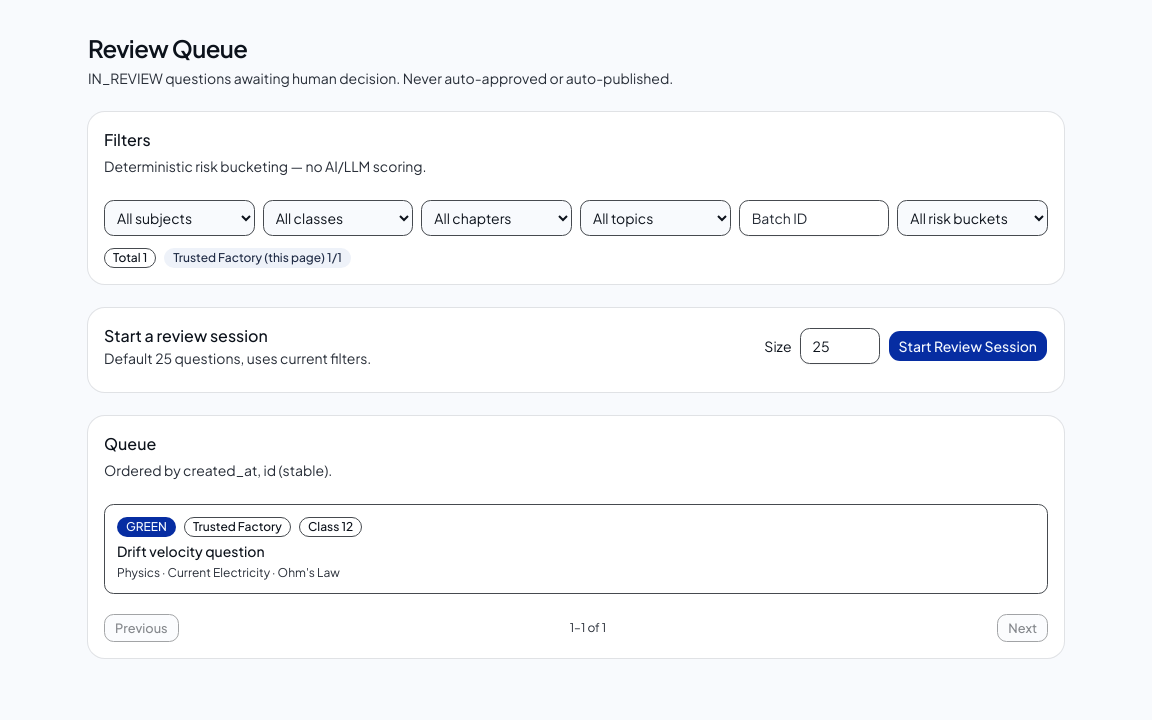
it: Review Queue page (HR-2) › shows an error and does not navigate if session creation fails
Expected: the text "Drift velocity question" is shown, [117,542,265,560]
What coordinates should you click on to do the following:
click the button with test id "start-review-session"
I would click on:
 (968, 346)
Its box is [888,330,1048,362].
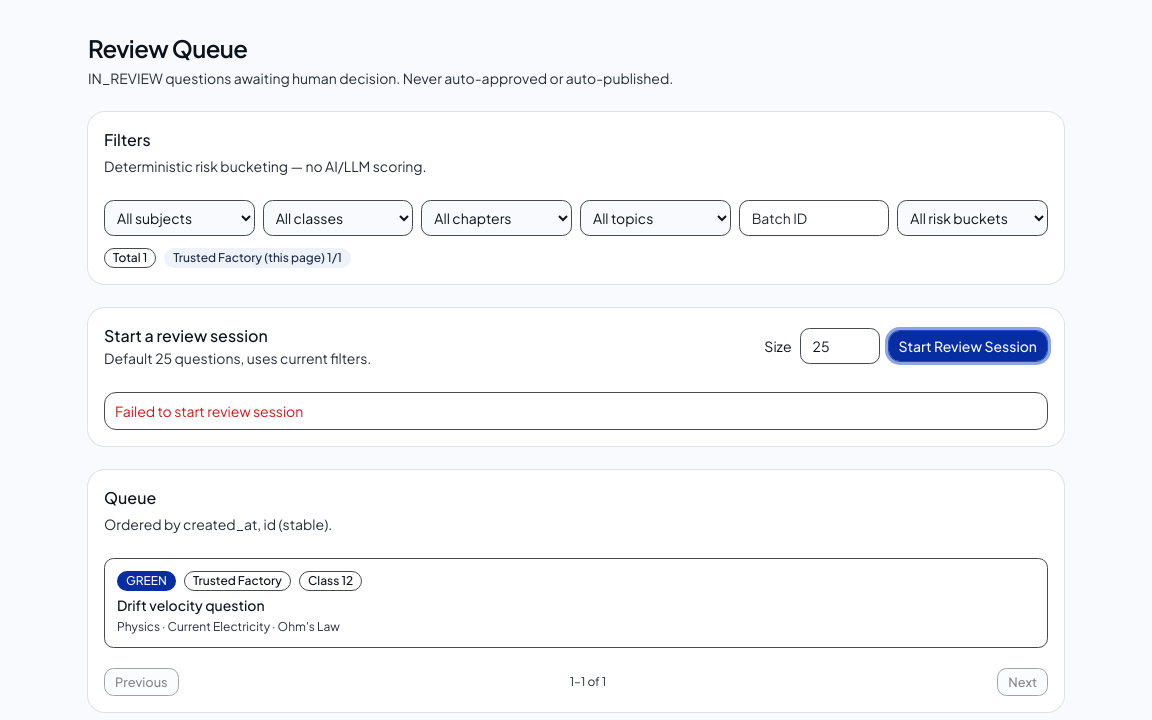
Now the text "Failed to start review session" is shown, box [115,402,303,420]
